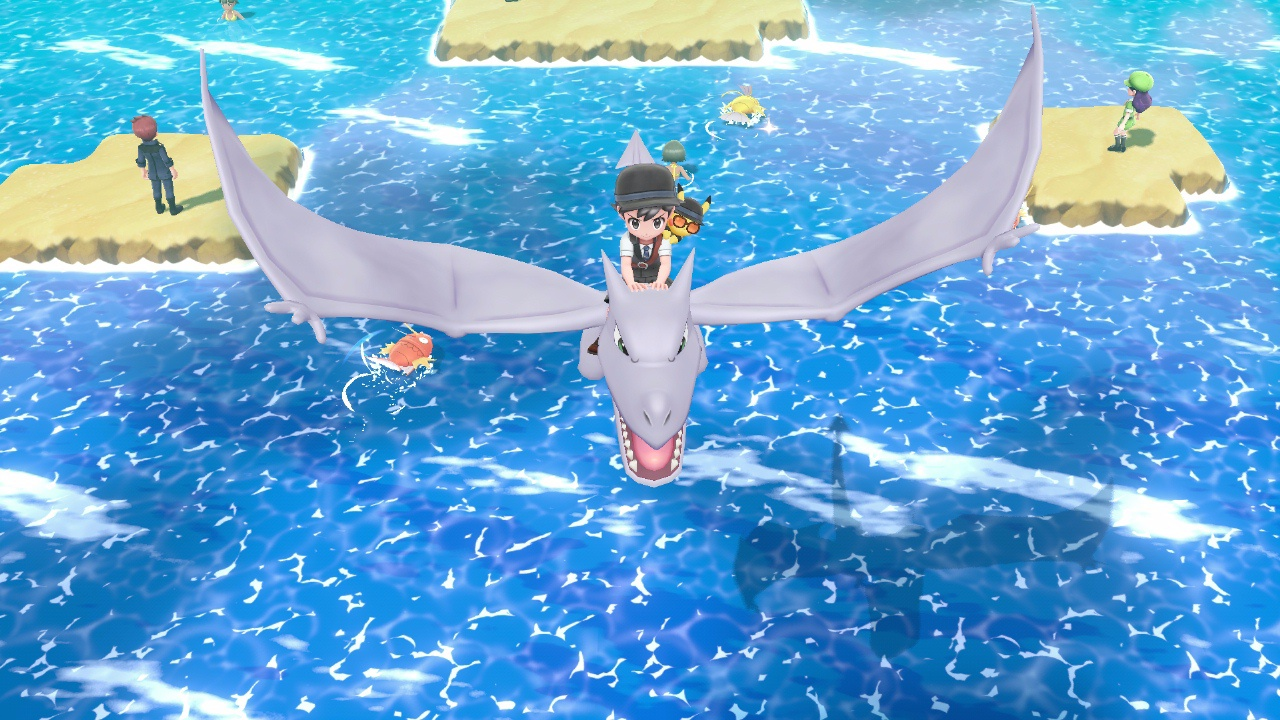Golden: (721, 90, 763, 128)
